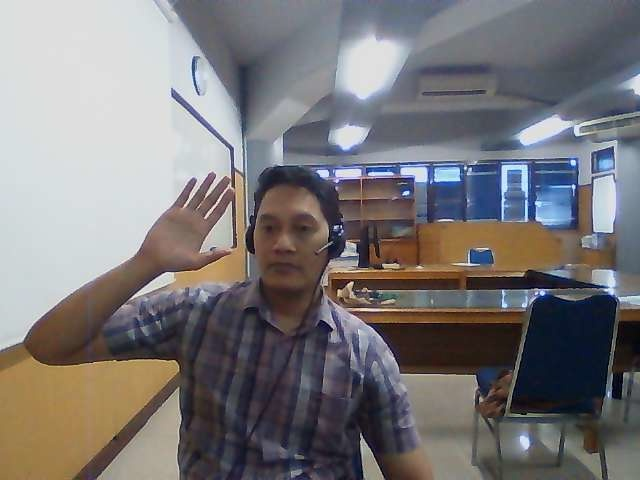Hai: (140, 170, 235, 274)
